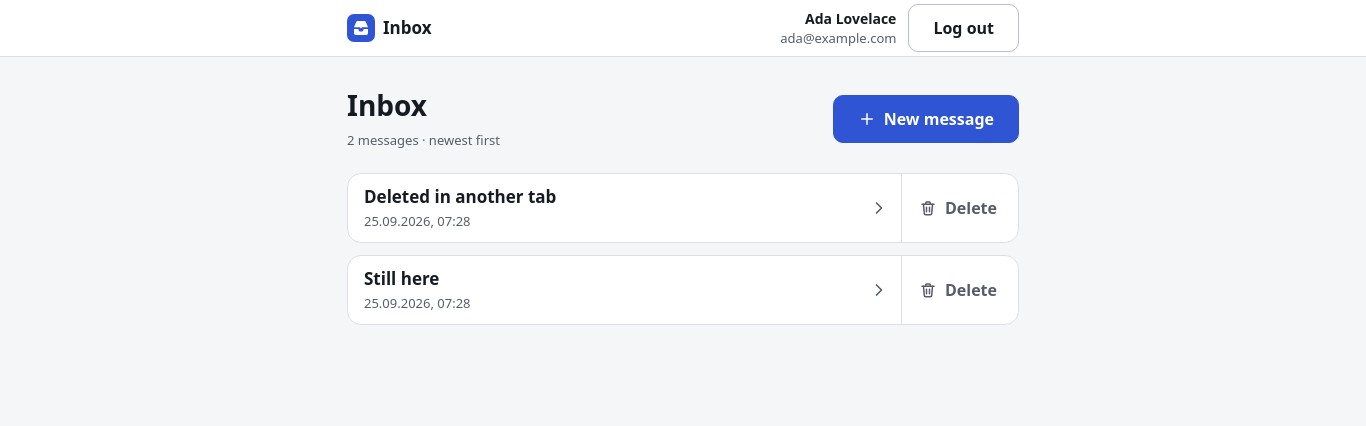
Test: message deleted elsewhere › removes the stale row when opening it reveals it is gone
Click the link "Deleted in another tab 25.09.2026, 07:28": (460, 196) 348,174 -> 901,242
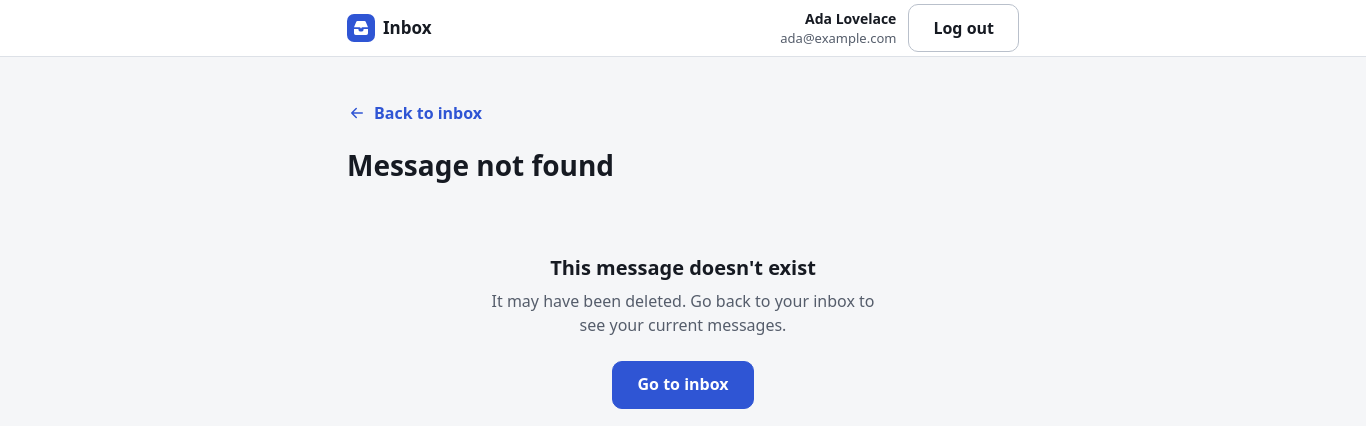
Result: the heading "Message not found" is shown at 347,146 -> 614,184
Click the link "Go to inbox": (683, 385) 612,361 -> 754,409
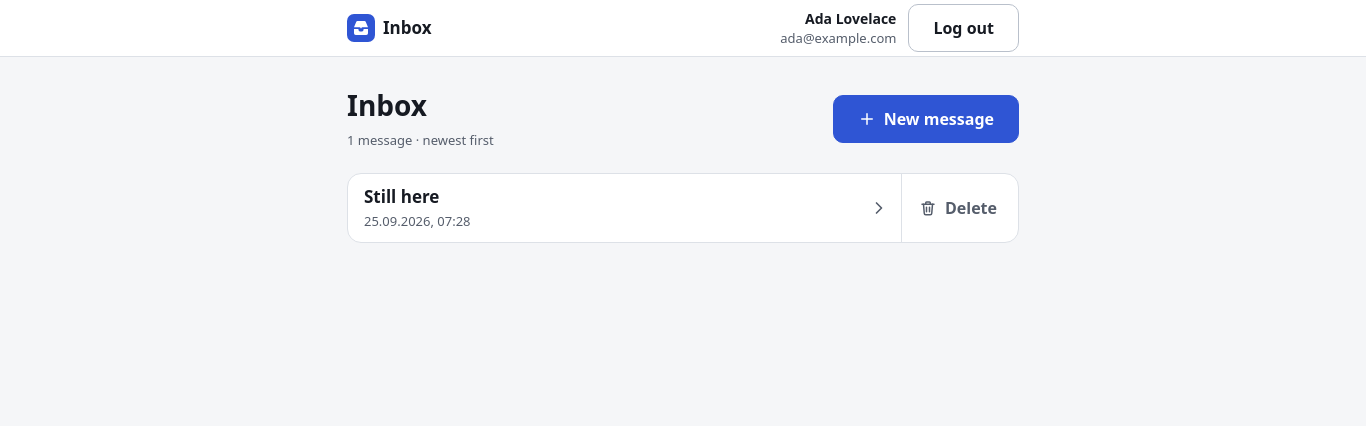
Expected: the link "Deleted in another tab" is not shown
Result: the link "Still here 25.09.2026, 07:28" is shown at 348,174 -> 901,242
